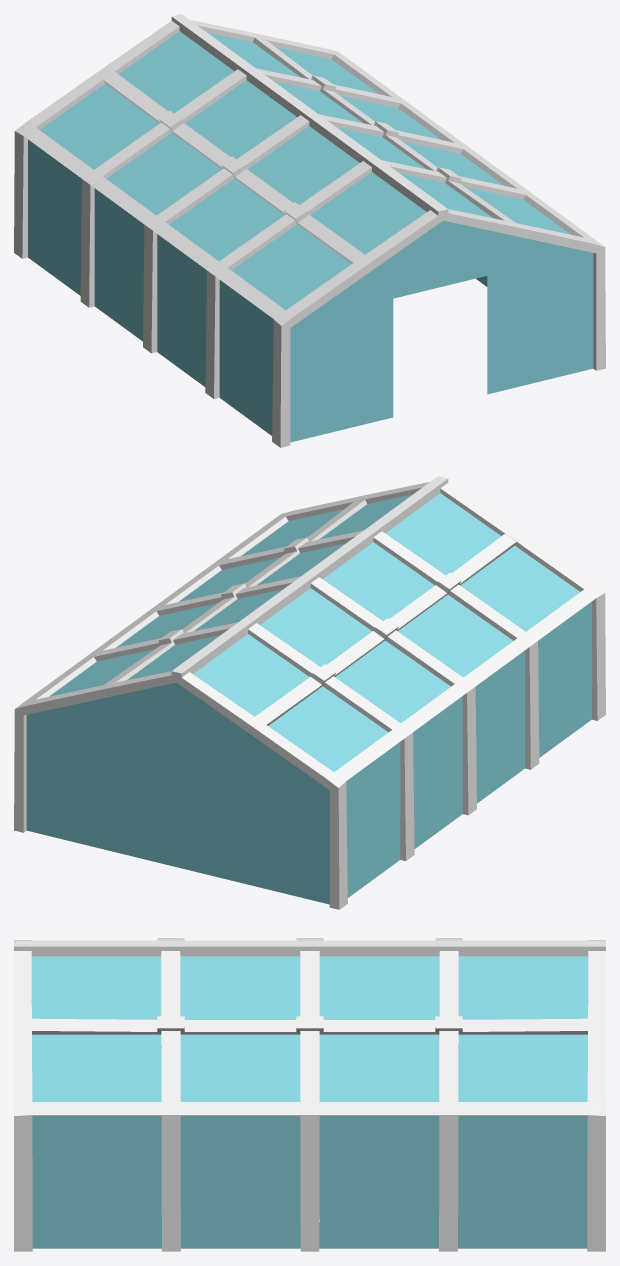
Rendered from Farm_House_Greenhouse_01.fbx.
3 views of the same model, one above another, from view 1: azimuth 30°, elevation 25°; view 2: azimuth 150°, elevation 25°; view 3: azimuth 270°, elevation 25° (orthographic). The views are drawn at different scales.
Visible parts, largest first — view 1: Farm_House_Greenhouse_01; view 2: Farm_House_Greenhouse_01; view 3: Farm_House_Greenhouse_01.
Boxes of the visible parts, x1=… form: Farm_House_Greenhouse_01: x1=14, y1=14, x2=605, y2=447; Farm_House_Greenhouse_01: x1=14, y1=476, x2=605, y2=909; Farm_House_Greenhouse_01: x1=14, y1=938, x2=605, y2=1251.
Bounding box in the file's own units: 953 × 554 × 1352.
